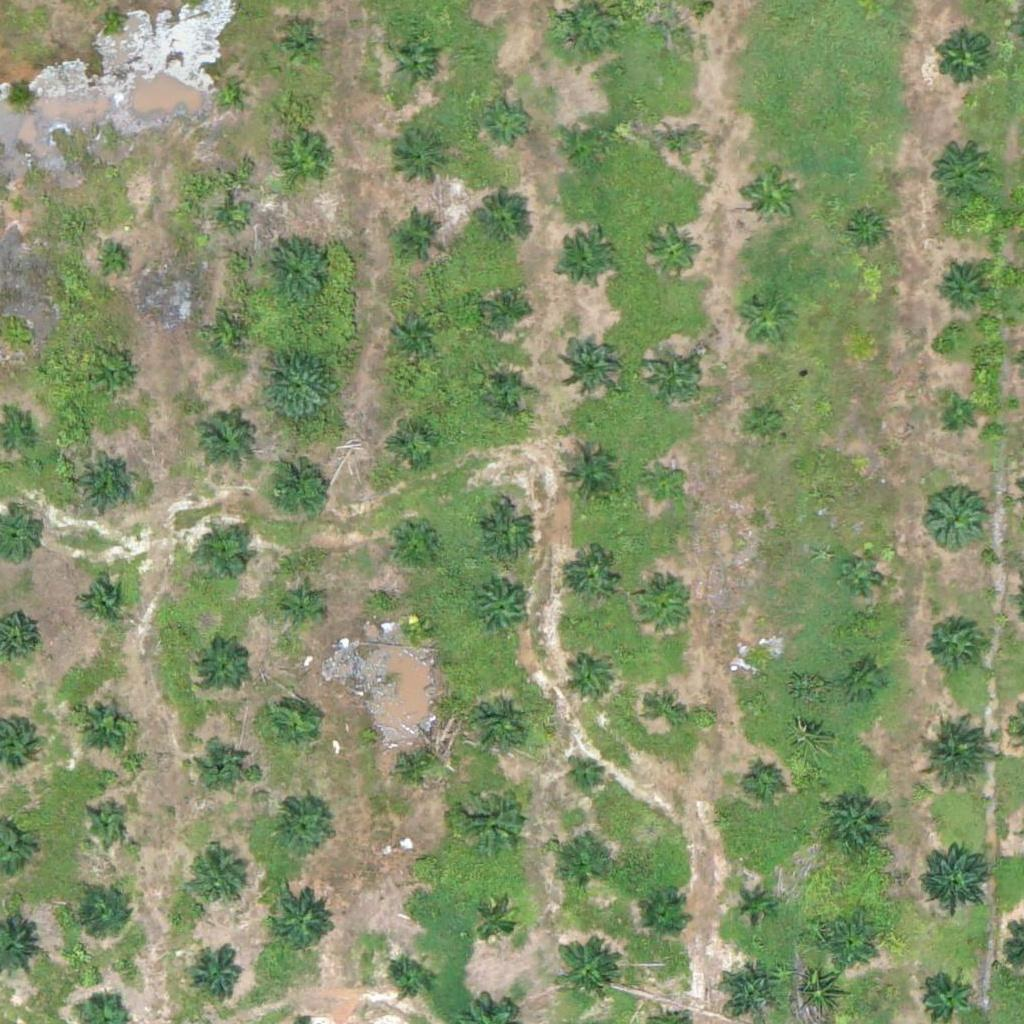Kelapa_Sawit: (258, 233, 333, 309), (262, 451, 337, 527), (457, 777, 532, 853), (262, 347, 337, 423), (916, 720, 991, 795), (918, 834, 993, 909), (717, 956, 780, 1019), (922, 484, 985, 547), (191, 406, 254, 469), (733, 288, 796, 351), (476, 502, 539, 565), (76, 452, 139, 515), (392, 126, 455, 189), (740, 165, 803, 228), (471, 195, 534, 258), (555, 233, 617, 296), (553, 938, 615, 1001), (270, 886, 332, 949), (821, 794, 883, 857), (923, 611, 985, 674), (188, 849, 250, 912), (468, 694, 530, 757), (556, 446, 618, 509), (643, 347, 705, 410), (559, 330, 621, 393), (267, 796, 329, 859), (928, 143, 990, 206), (932, 26, 994, 89), (74, 691, 136, 754), (473, 581, 535, 643), (649, 226, 699, 277), (823, 921, 873, 972), (918, 972, 968, 1023), (934, 264, 984, 315), (81, 888, 131, 939), (78, 576, 128, 627), (653, 120, 703, 171), (565, 118, 615, 169), (483, 95, 533, 146), (391, 37, 441, 88), (192, 953, 242, 1003), (199, 737, 249, 787), (202, 531, 252, 581), (198, 641, 248, 691), (388, 514, 438, 564), (387, 418, 437, 468), (569, 549, 619, 599), (639, 581, 689, 631), (552, 844, 602, 894), (265, 697, 315, 747), (280, 139, 330, 189), (638, 891, 688, 941), (469, 900, 519, 950), (384, 957, 434, 1007), (392, 740, 442, 790), (481, 284, 531, 334), (483, 368, 533, 418), (389, 304, 439, 354), (394, 209, 444, 259), (276, 22, 326, 72), (564, 653, 614, 703), (280, 587, 318, 625), (567, 755, 605, 793), (848, 214, 886, 252), (644, 466, 682, 504), (742, 649, 780, 687), (648, 691, 686, 729), (847, 665, 884, 703), (98, 360, 135, 398), (733, 887, 770, 925), (747, 763, 785, 800), (87, 804, 124, 842), (939, 397, 976, 435), (747, 403, 784, 440), (842, 553, 879, 590), (220, 324, 245, 350), (213, 79, 238, 104), (218, 207, 243, 232), (101, 250, 126, 275), (101, 6, 126, 31), (401, 615, 426, 640), (408, 850, 433, 875), (7, 195, 32, 220)
